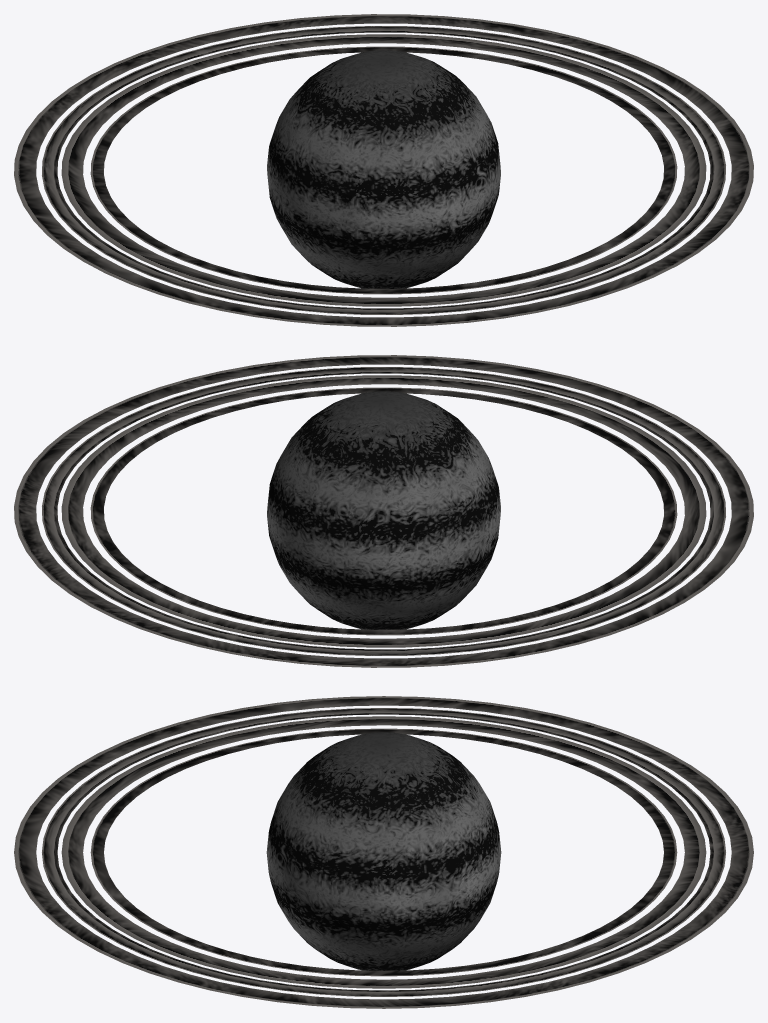
The model's file is GasGiant_Root.fbx.
3 views of the same model, one above another, from view 1: azimuth 30°, elevation 25°; view 2: azimuth 150°, elevation 25°; view 3: azimuth 270°, elevation 25° (orthographic).
Parts seen in each view (by area): view 1: Rings, Gas Giant NS, Gas Giant Equator, Gas Giant Poles; view 2: Rings, Gas Giant NS, Gas Giant Equator, Gas Giant Poles; view 3: Rings, Gas Giant NS, Gas Giant Equator, Gas Giant Poles.
Boxes of the visible parts, x1,y1,x2,y2 form: Rings: (14, 14, 753, 326); Gas Giant NS: (269, 66, 498, 288); Gas Giant Equator: (267, 146, 500, 240); Gas Giant Poles: (318, 50, 449, 288); Rings: (14, 355, 753, 667); Gas Giant NS: (269, 407, 498, 629); Gas Giant Equator: (267, 487, 500, 581); Gas Giant Poles: (318, 391, 449, 629); Rings: (14, 696, 753, 1008); Gas Giant NS: (269, 747, 498, 970); Gas Giant Equator: (266, 832, 501, 922); Gas Giant Poles: (318, 732, 449, 970).
Size of the model in its own units: 602 by 198 by 602.
